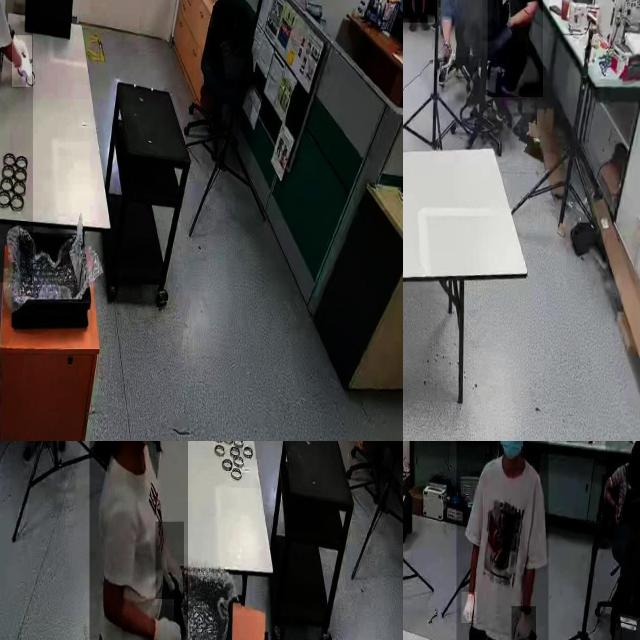face_mask: (500, 441, 525, 467)
face_nomask: (635, 453, 640, 472)
hand_glove: (156, 522, 184, 599), (150, 605, 187, 640), (12, 35, 32, 87), (511, 606, 536, 640), (461, 592, 477, 624)
hand_noglove: (612, 503, 624, 525)
person: (89, 441, 188, 640), (456, 441, 549, 640), (0, 0, 33, 283), (487, 0, 543, 98), (605, 441, 640, 521), (439, 0, 482, 58)
shoes: (417, 7, 433, 34), (406, 8, 418, 35)
